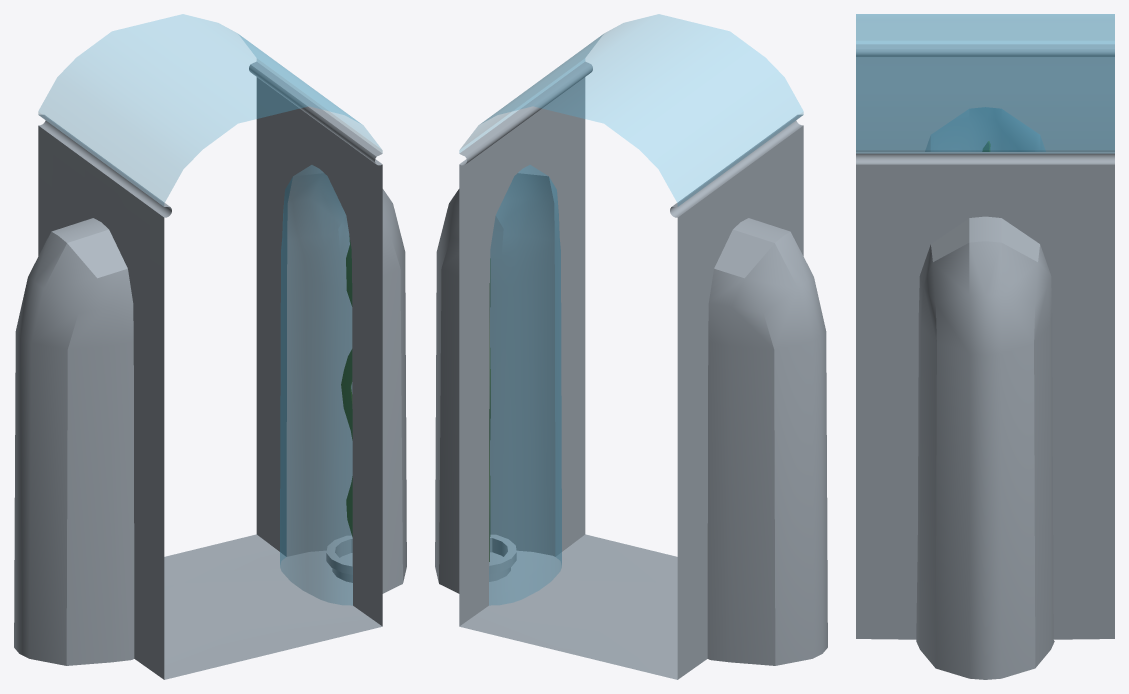
File: Straight2Reagan.fbx
3 views of the same model, side by side, from view 1: azimuth 30°, elevation 25°; view 2: azimuth 150°, elevation 25°; view 3: azimuth 270°, elevation 25° (orthographic). The views are drawn at different scales.
Visible parts, largest first — view 1: Straight1; view 2: Straight1; view 3: Straight1.
Part boxes in pixels (box(x1,y1,x2,y2)): Straight1: box(14, 14, 406, 679); Straight1: box(435, 14, 827, 679); Straight1: box(856, 14, 1114, 679).
Bounding box in the file's own units: 2.1 × 2.83 × 1.2.
